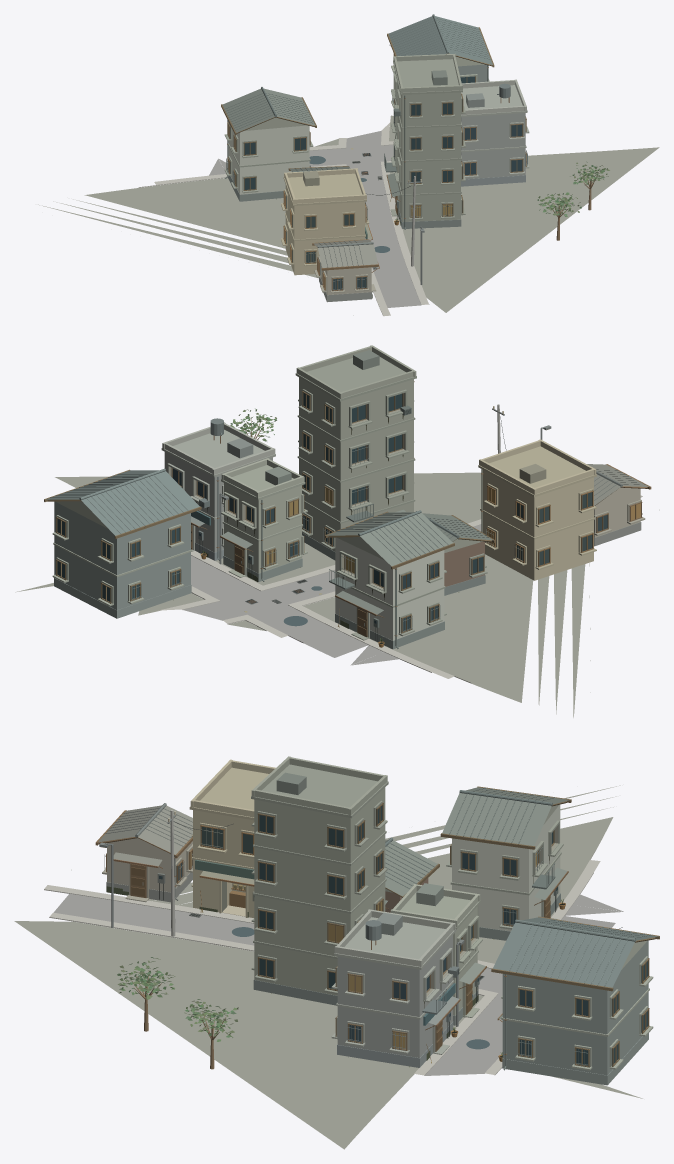
File: street_5_2.glb
3 views of the same model, one above another, from view 1: azimuth 30°, elevation 25°; view 2: azimuth 150°, elevation 25°; view 3: azimuth 270°, elevation 25° (orthographic). The views are drawn at different scales.
Visible parts, largest first — view 1: ground.035, plaster.021, trim.021, road.057, roof_metal.021, wood.021, limewash.007, roof_tile.014, concrete.022, metal.021, glass.021, paving.025 (+2 smaller); view 2: plaster.021, ground.035, trim.021, graybrick.020, roof_metal.021, road.057, wood.021, roof_tile.014, limewash.007, glass.021, metal.021, paving.025 (+4 smaller); view 3: ground.035, plaster.021, trim.021, graybrick.020, roof_metal.021, wood.021, road.057, roof_tile.014, concrete.022, limewash.007, metal.021, glass.021 (+5 smaller).
Part boxes in pixels (left/top/right/bottom): ground.035: left=38, top=115, right=659, bottom=312; plaster.021: left=244, top=53, right=526, bottom=294; trim.021: left=224, top=59, right=529, bottom=293; road.057: left=209, top=130, right=421, bottom=307; roof_metal.021: left=222, top=70, right=484, bottom=267; wood.021: left=221, top=27, right=598, bottom=291; limewash.007: left=228, top=125, right=309, bottom=194; roof_tile.014: left=261, top=14, right=492, bottom=247; concrete.022: left=411, top=113, right=525, bottom=266; metal.021: left=224, top=65, right=527, bottom=290; glass.021: left=230, top=76, right=525, bottom=290; paving.025: left=138, top=123, right=526, bottom=316; plaster.021: left=56, top=345, right=640, bottom=580; ground.035: left=15, top=472, right=590, bottom=717; trim.021: left=52, top=357, right=645, bottom=640; graybrick.020: left=54, top=501, right=641, bottom=649; roof_metal.021: left=191, top=350, right=648, bottom=614; road.057: left=183, top=524, right=481, bottom=665; wood.021: left=44, top=391, right=651, bottom=637; roof_tile.014: left=46, top=468, right=622, bottom=538; limewash.007: left=335, top=537, right=444, bottom=640; glass.021: left=57, top=393, right=607, bottom=631; metal.021: left=132, top=405, right=645, bottom=648; paving.025: left=158, top=495, right=642, bottom=683; ground.035: left=14, top=785, right=642, bottom=1149; plaster.021: left=107, top=756, right=647, bottom=1015; trim.021: left=102, top=764, right=653, bottom=1070; graybrick.020: left=106, top=872, right=648, bottom=1085; roof_metal.021: left=98, top=772, right=569, bottom=1025; wood.021: left=95, top=786, right=659, bottom=1069; road.057: left=54, top=893, right=623, bottom=1075; roof_tile.014: left=135, top=790, right=658, bottom=987; concrete.022: left=170, top=810, right=452, bottom=1057; limewash.007: left=452, top=804, right=560, bottom=931; metal.021: left=99, top=787, right=588, bottom=1070; glass.021: left=159, top=804, right=647, bottom=1065.
Size of the model in its own units: 52.74 by 13.42 by 38.2.
